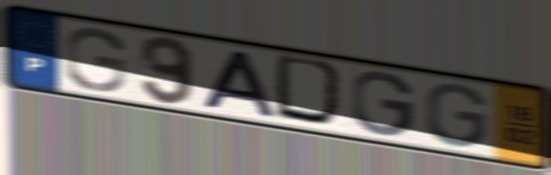9: (137, 34, 196, 108)
A: (199, 47, 282, 121)
D: (272, 51, 351, 131)
G: (349, 70, 418, 139), (423, 81, 490, 150), (62, 26, 128, 94)
